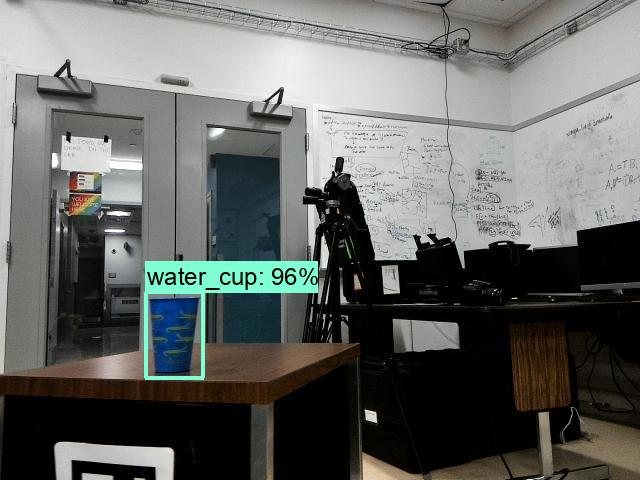water_cup: (143, 293, 202, 375)
